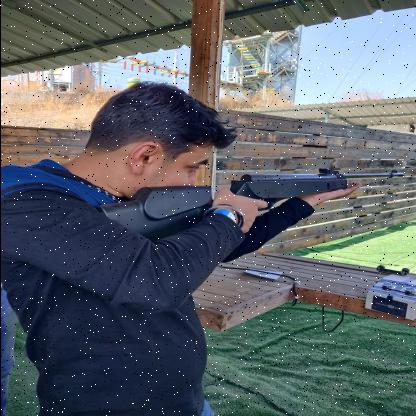rifle: (94, 166, 406, 246)
